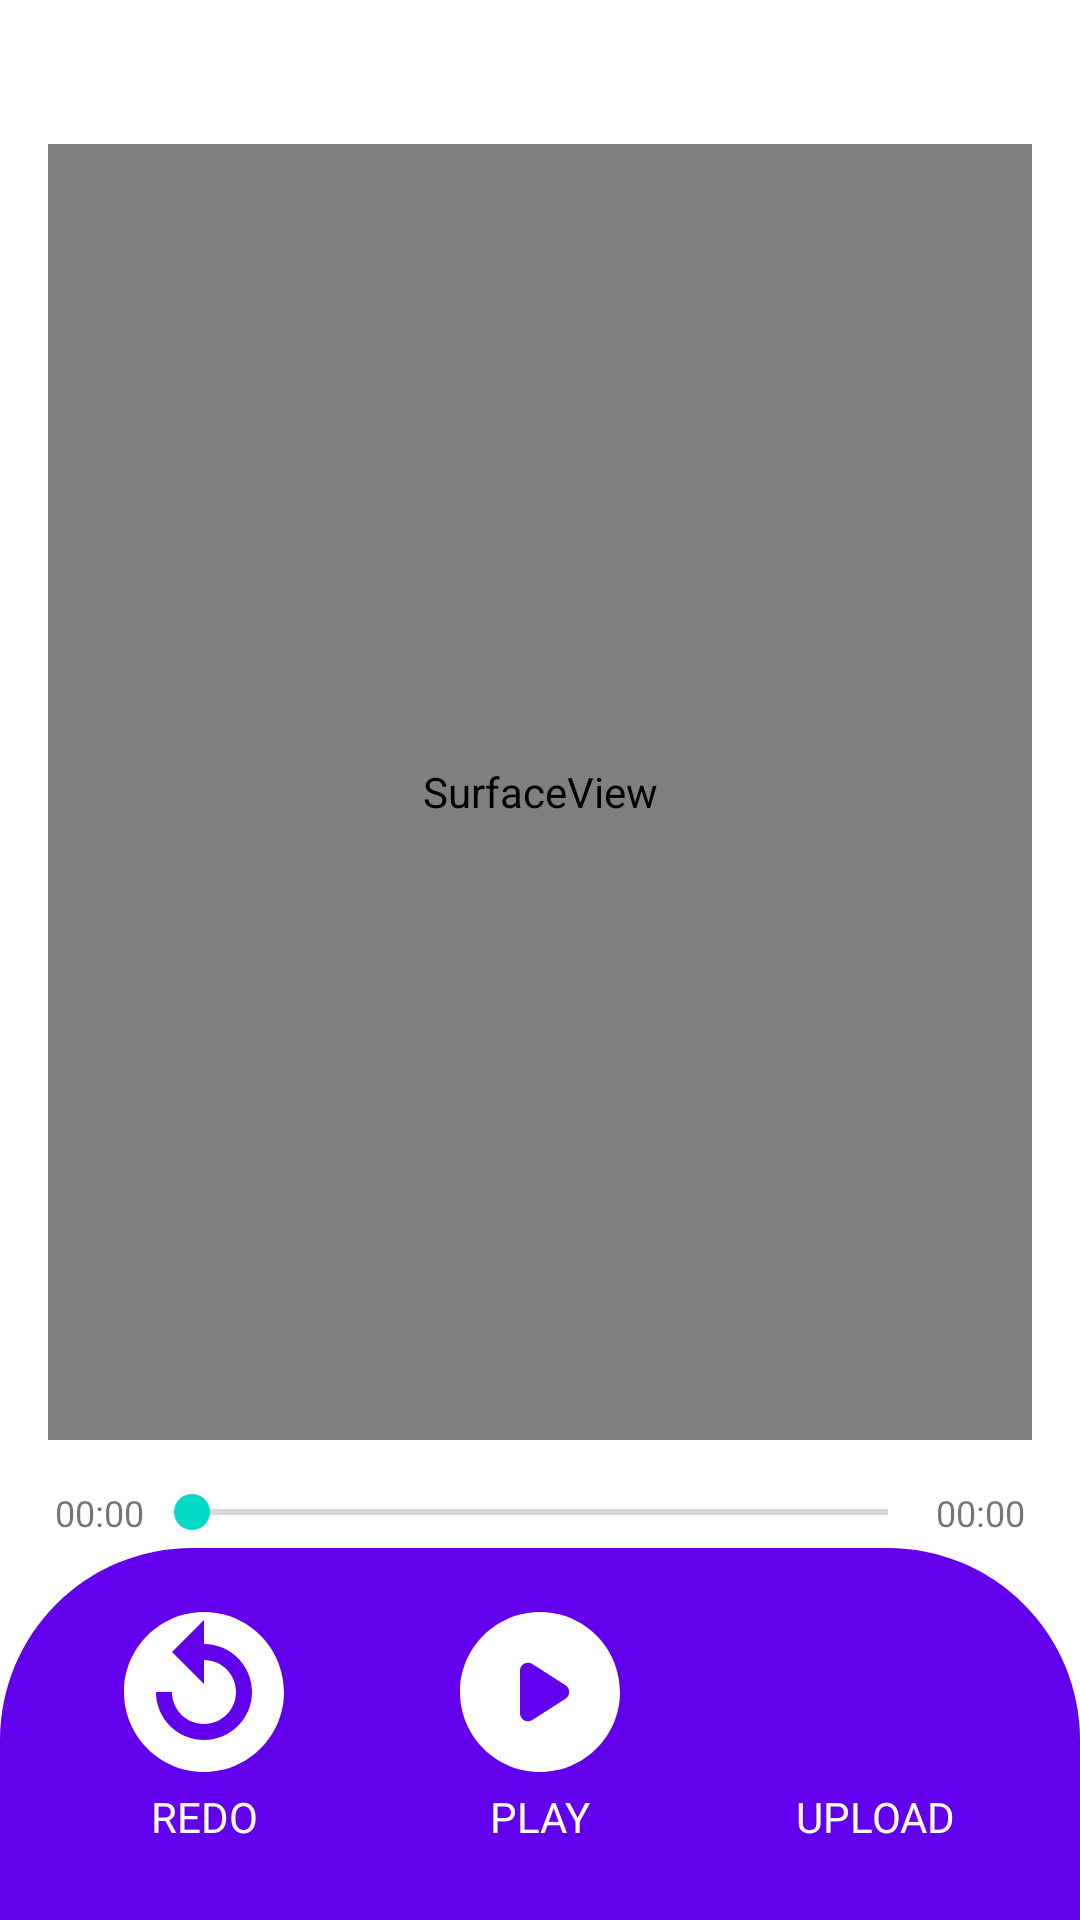

Named icons in this screenshot (1080 × 1920) and their centers, point (x, y):
replay circle: point (204, 1692)
